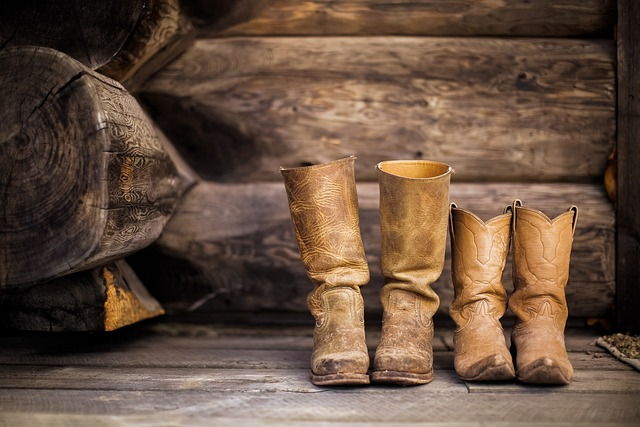Footwear: (258, 143, 443, 413), (449, 194, 579, 407)
